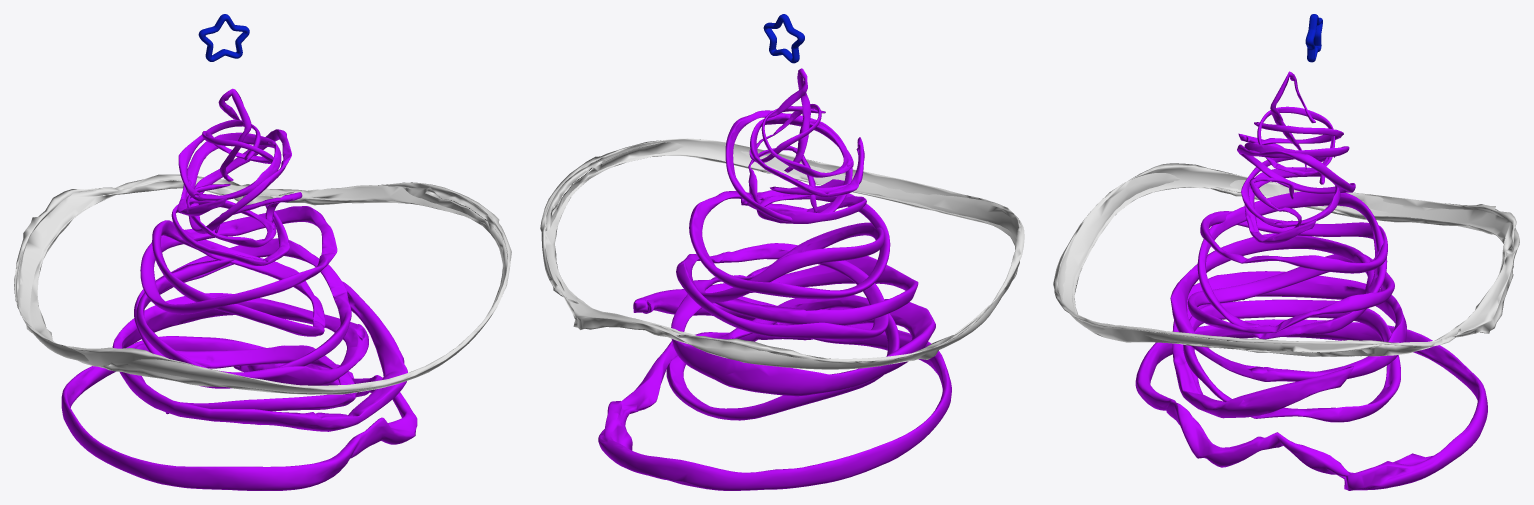
File: engine.glb
3 views of the same model, side by side, from view 1: azimuth 30°, elevation 25°; view 2: azimuth 150°, elevation 25°; view 3: azimuth 270°, elevation 25° (orthographic). The views are drawn at different scales.
Parts seen in each view (by area): view 1: tripo_node_e7e09e58-2e43-481d-bd8e-657e9cb252f1.012, tripo_node_e7e09e58-2e43-481d-bd8e-657e9cb252f1.003, tripo_node_e7e09e58-2e43-481d-bd8e-657e9cb252f1.004, tripo_node_e7e09e58-2e43-481d-bd8e-657e9cb252f1.015, tripo_node_e7e09e58-2e43-481d-bd8e-657e9cb252f1, tripo_node_e7e09e58-2e43-481d-bd8e-657e9cb252f1.013, tripo_node_e7e09e58-2e43-481d-bd8e-657e9cb252f1.018, tripo_node_e7e09e58-2e43-481d-bd8e-657e9cb252f1.005, tripo_node_e7e09e58-2e43-481d-bd8e-657e9cb252f1.016, tripo_node_e7e09e58-2e43-481d-bd8e-657e9cb252f1.017, STAR, tripo_node_e7e09e58-2e43-481d-bd8e-657e9cb252f1.021 (+2 smaller); view 2: tripo_node_e7e09e58-2e43-481d-bd8e-657e9cb252f1.012, tripo_node_e7e09e58-2e43-481d-bd8e-657e9cb252f1.003, tripo_node_e7e09e58-2e43-481d-bd8e-657e9cb252f1.004, tripo_node_e7e09e58-2e43-481d-bd8e-657e9cb252f1.005, tripo_node_e7e09e58-2e43-481d-bd8e-657e9cb252f1, tripo_node_e7e09e58-2e43-481d-bd8e-657e9cb252f1.015, tripo_node_e7e09e58-2e43-481d-bd8e-657e9cb252f1.013, tripo_node_e7e09e58-2e43-481d-bd8e-657e9cb252f1.018, tripo_node_e7e09e58-2e43-481d-bd8e-657e9cb252f1.016, tripo_node_e7e09e58-2e43-481d-bd8e-657e9cb252f1.017, tripo_node_e7e09e58-2e43-481d-bd8e-657e9cb252f1.021, STAR (+2 smaller); view 3: tripo_node_e7e09e58-2e43-481d-bd8e-657e9cb252f1.012, tripo_node_e7e09e58-2e43-481d-bd8e-657e9cb252f1.003, tripo_node_e7e09e58-2e43-481d-bd8e-657e9cb252f1.004, tripo_node_e7e09e58-2e43-481d-bd8e-657e9cb252f1, tripo_node_e7e09e58-2e43-481d-bd8e-657e9cb252f1.013, tripo_node_e7e09e58-2e43-481d-bd8e-657e9cb252f1.005, tripo_node_e7e09e58-2e43-481d-bd8e-657e9cb252f1.015, tripo_node_e7e09e58-2e43-481d-bd8e-657e9cb252f1.016, tripo_node_e7e09e58-2e43-481d-bd8e-657e9cb252f1.018, tripo_node_e7e09e58-2e43-481d-bd8e-657e9cb252f1.017, tripo_node_e7e09e58-2e43-481d-bd8e-657e9cb252f1.020, tripo_node_e7e09e58-2e43-481d-bd8e-657e9cb252f1.021 (+2 smaller).
Boxes of the visible parts, left/top/right/bottom form: tripo_node_e7e09e58-2e43-481d-bd8e-657e9cb252f1.012: left=14, top=174, right=511, bottom=394; tripo_node_e7e09e58-2e43-481d-bd8e-657e9cb252f1.003: left=112, top=259, right=407, bottom=431; tripo_node_e7e09e58-2e43-481d-bd8e-657e9cb252f1.004: left=61, top=336, right=417, bottom=490; tripo_node_e7e09e58-2e43-481d-bd8e-657e9cb252f1.015: left=140, top=206, right=337, bottom=314; tripo_node_e7e09e58-2e43-481d-bd8e-657e9cb252f1: left=135, top=344, right=356, bottom=411; tripo_node_e7e09e58-2e43-481d-bd8e-657e9cb252f1.013: left=152, top=220, right=325, bottom=336; tripo_node_e7e09e58-2e43-481d-bd8e-657e9cb252f1.018: left=177, top=119, right=281, bottom=216; tripo_node_e7e09e58-2e43-481d-bd8e-657e9cb252f1.005: left=134, top=238, right=351, bottom=388; tripo_node_e7e09e58-2e43-481d-bd8e-657e9cb252f1.016: left=171, top=184, right=289, bottom=265; tripo_node_e7e09e58-2e43-481d-bd8e-657e9cb252f1.017: left=188, top=129, right=291, bottom=233; STAR: left=198, top=14, right=249, bottom=61; tripo_node_e7e09e58-2e43-481d-bd8e-657e9cb252f1.021: left=218, top=88, right=251, bottom=181; tripo_node_e7e09e58-2e43-481d-bd8e-657e9cb252f1.012: left=540, top=138, right=1024, bottom=369; tripo_node_e7e09e58-2e43-481d-bd8e-657e9cb252f1.003: left=633, top=256, right=935, bottom=396; tripo_node_e7e09e58-2e43-481d-bd8e-657e9cb252f1.004: left=598, top=323, right=951, bottom=490; tripo_node_e7e09e58-2e43-481d-bd8e-657e9cb252f1.005: left=676, top=243, right=888, bottom=340; tripo_node_e7e09e58-2e43-481d-bd8e-657e9cb252f1: left=666, top=295, right=899, bottom=420; tripo_node_e7e09e58-2e43-481d-bd8e-657e9cb252f1.015: left=689, top=186, right=890, bottom=299; tripo_node_e7e09e58-2e43-481d-bd8e-657e9cb252f1.013: left=693, top=222, right=884, bottom=303; tripo_node_e7e09e58-2e43-481d-bd8e-657e9cb252f1.018: left=750, top=106, right=864, bottom=196; tripo_node_e7e09e58-2e43-481d-bd8e-657e9cb252f1.016: left=741, top=179, right=866, bottom=223; tripo_node_e7e09e58-2e43-481d-bd8e-657e9cb252f1.017: left=725, top=110, right=852, bottom=221; tripo_node_e7e09e58-2e43-481d-bd8e-657e9cb252f1.021: left=768, top=68, right=810, bottom=172; STAR: left=763, top=14, right=804, bottom=63; tripo_node_e7e09e58-2e43-481d-bd8e-657e9cb252f1.012: left=1053, top=163, right=1519, bottom=356; tripo_node_e7e09e58-2e43-481d-bd8e-657e9cb252f1.003: left=1170, top=233, right=1406, bottom=418; tripo_node_e7e09e58-2e43-481d-bd8e-657e9cb252f1.004: left=1135, top=319, right=1487, bottom=490; tripo_node_e7e09e58-2e43-481d-bd8e-657e9cb252f1: left=1183, top=299, right=1400, bottom=422; tripo_node_e7e09e58-2e43-481d-bd8e-657e9cb252f1.013: left=1197, top=191, right=1387, bottom=339; tripo_node_e7e09e58-2e43-481d-bd8e-657e9cb252f1.005: left=1187, top=254, right=1394, bottom=334; tripo_node_e7e09e58-2e43-481d-bd8e-657e9cb252f1.015: left=1200, top=211, right=1387, bottom=273; tripo_node_e7e09e58-2e43-481d-bd8e-657e9cb252f1.016: left=1241, top=157, right=1340, bottom=243; tripo_node_e7e09e58-2e43-481d-bd8e-657e9cb252f1.018: left=1238, top=122, right=1349, bottom=161; tripo_node_e7e09e58-2e43-481d-bd8e-657e9cb252f1.017: left=1237, top=144, right=1355, bottom=193; tripo_node_e7e09e58-2e43-481d-bd8e-657e9cb252f1.020: left=1257, top=106, right=1335, bottom=176; tripo_node_e7e09e58-2e43-481d-bd8e-657e9cb252f1.021: left=1270, top=71, right=1315, bottom=169.
Size of the model in its own units: 1.09 by 1.07 by 1.11.
